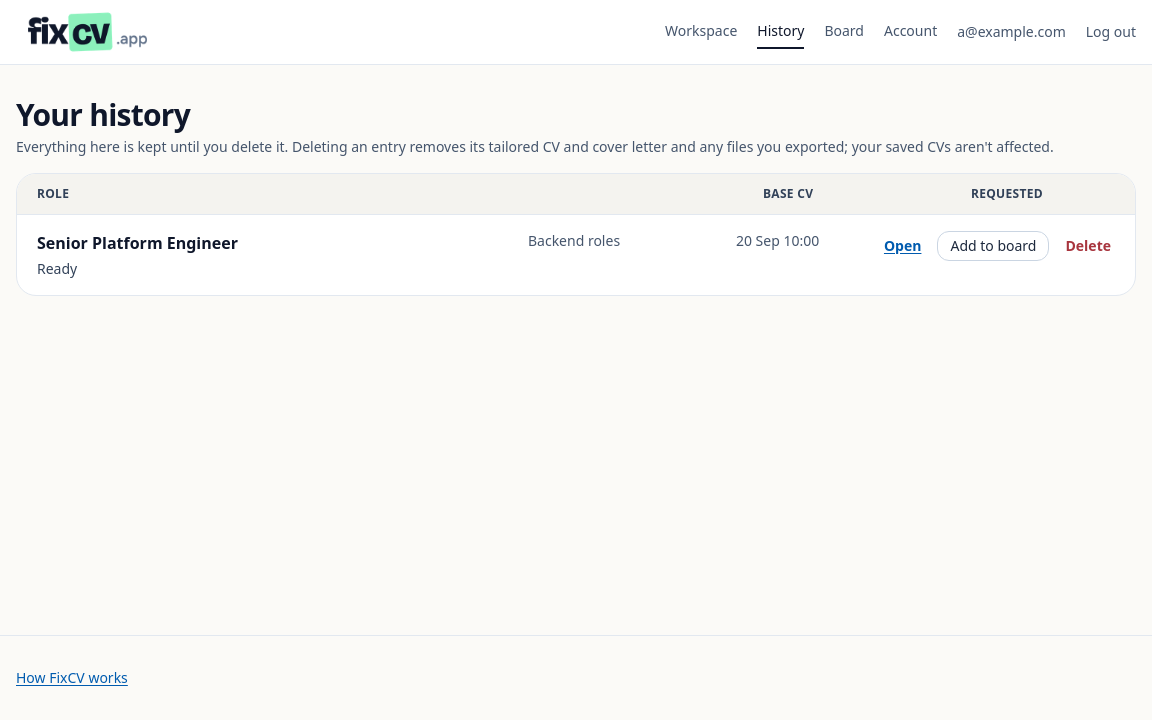
Test case: HistoryPage — deleting an entry (AC-45) › a 204 removes the row once the list has been read again
Expected: the text "Senior Platform Engineer" is shown, [37,231,238,255]
Click the button "Delete". click: (1088, 246)
box: [1062,236,1115,256]
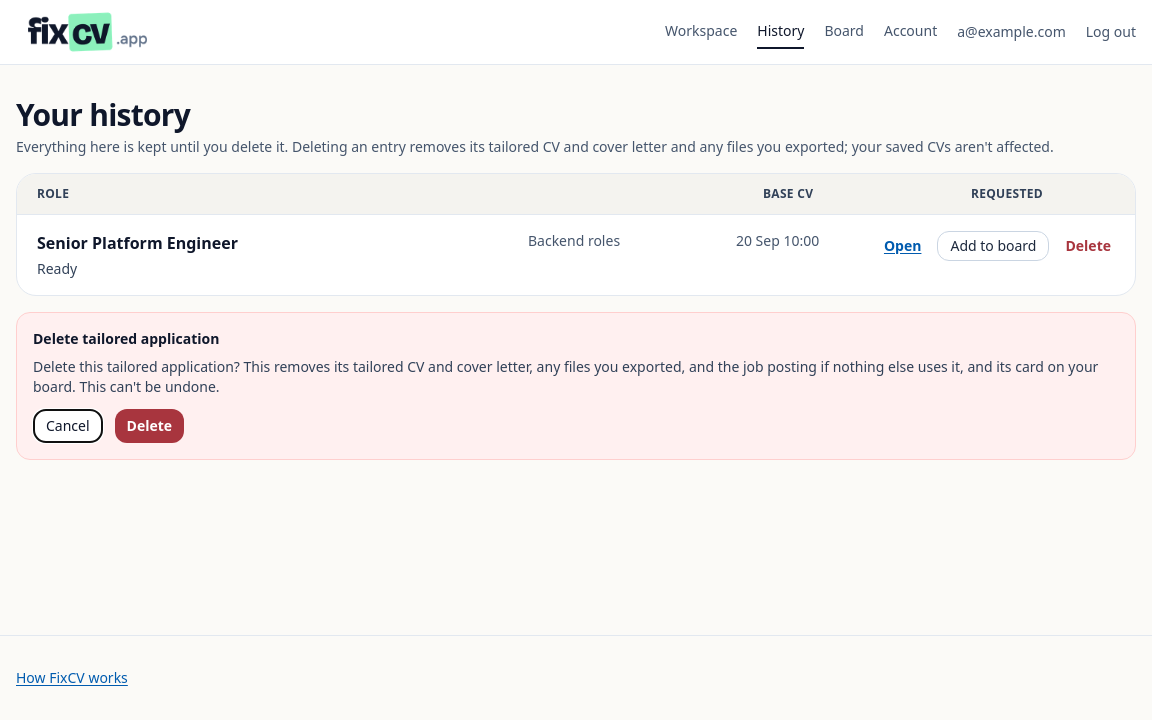
Click the button "Delete" below "Delete tailored application". click: (149, 426)
box: [115,409,184,443]
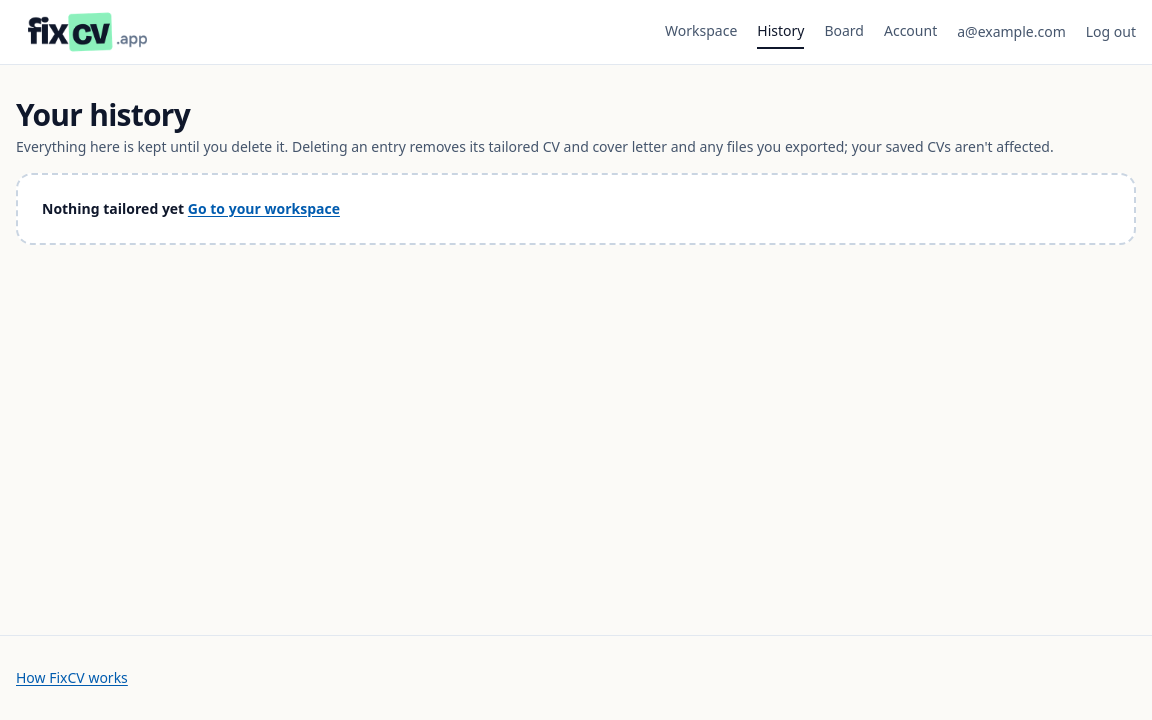
Expected: the text "Senior Platform Engineer" is gone
